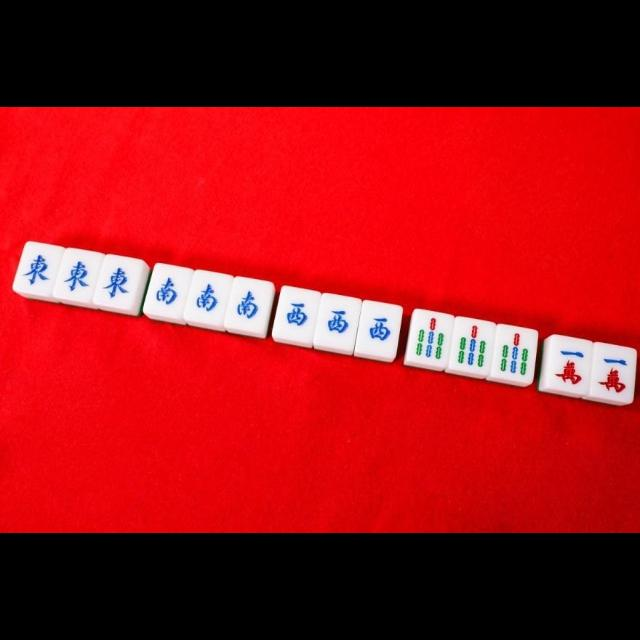b7: (492, 327, 536, 385), (410, 311, 450, 367), (452, 319, 492, 375)
c1: (546, 338, 592, 392), (591, 342, 633, 400)
we: (56, 253, 98, 303), (99, 258, 140, 308), (17, 244, 57, 294)
ws: (147, 268, 189, 316), (229, 282, 269, 331), (190, 274, 228, 324)
ww: (358, 300, 399, 356), (316, 296, 358, 348), (276, 290, 318, 340)
